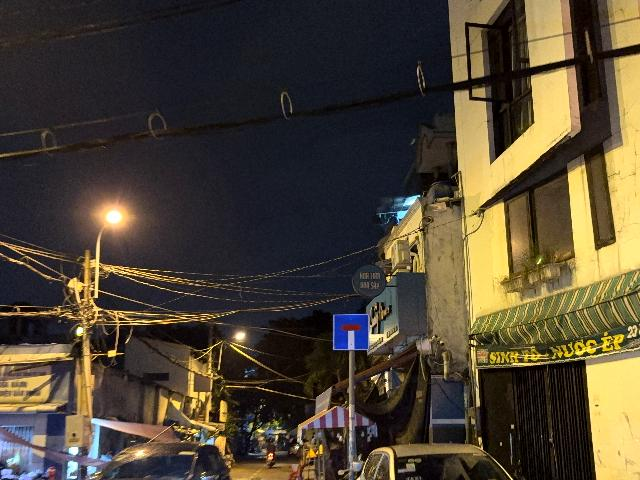duong-cut: (333, 315, 369, 350)
